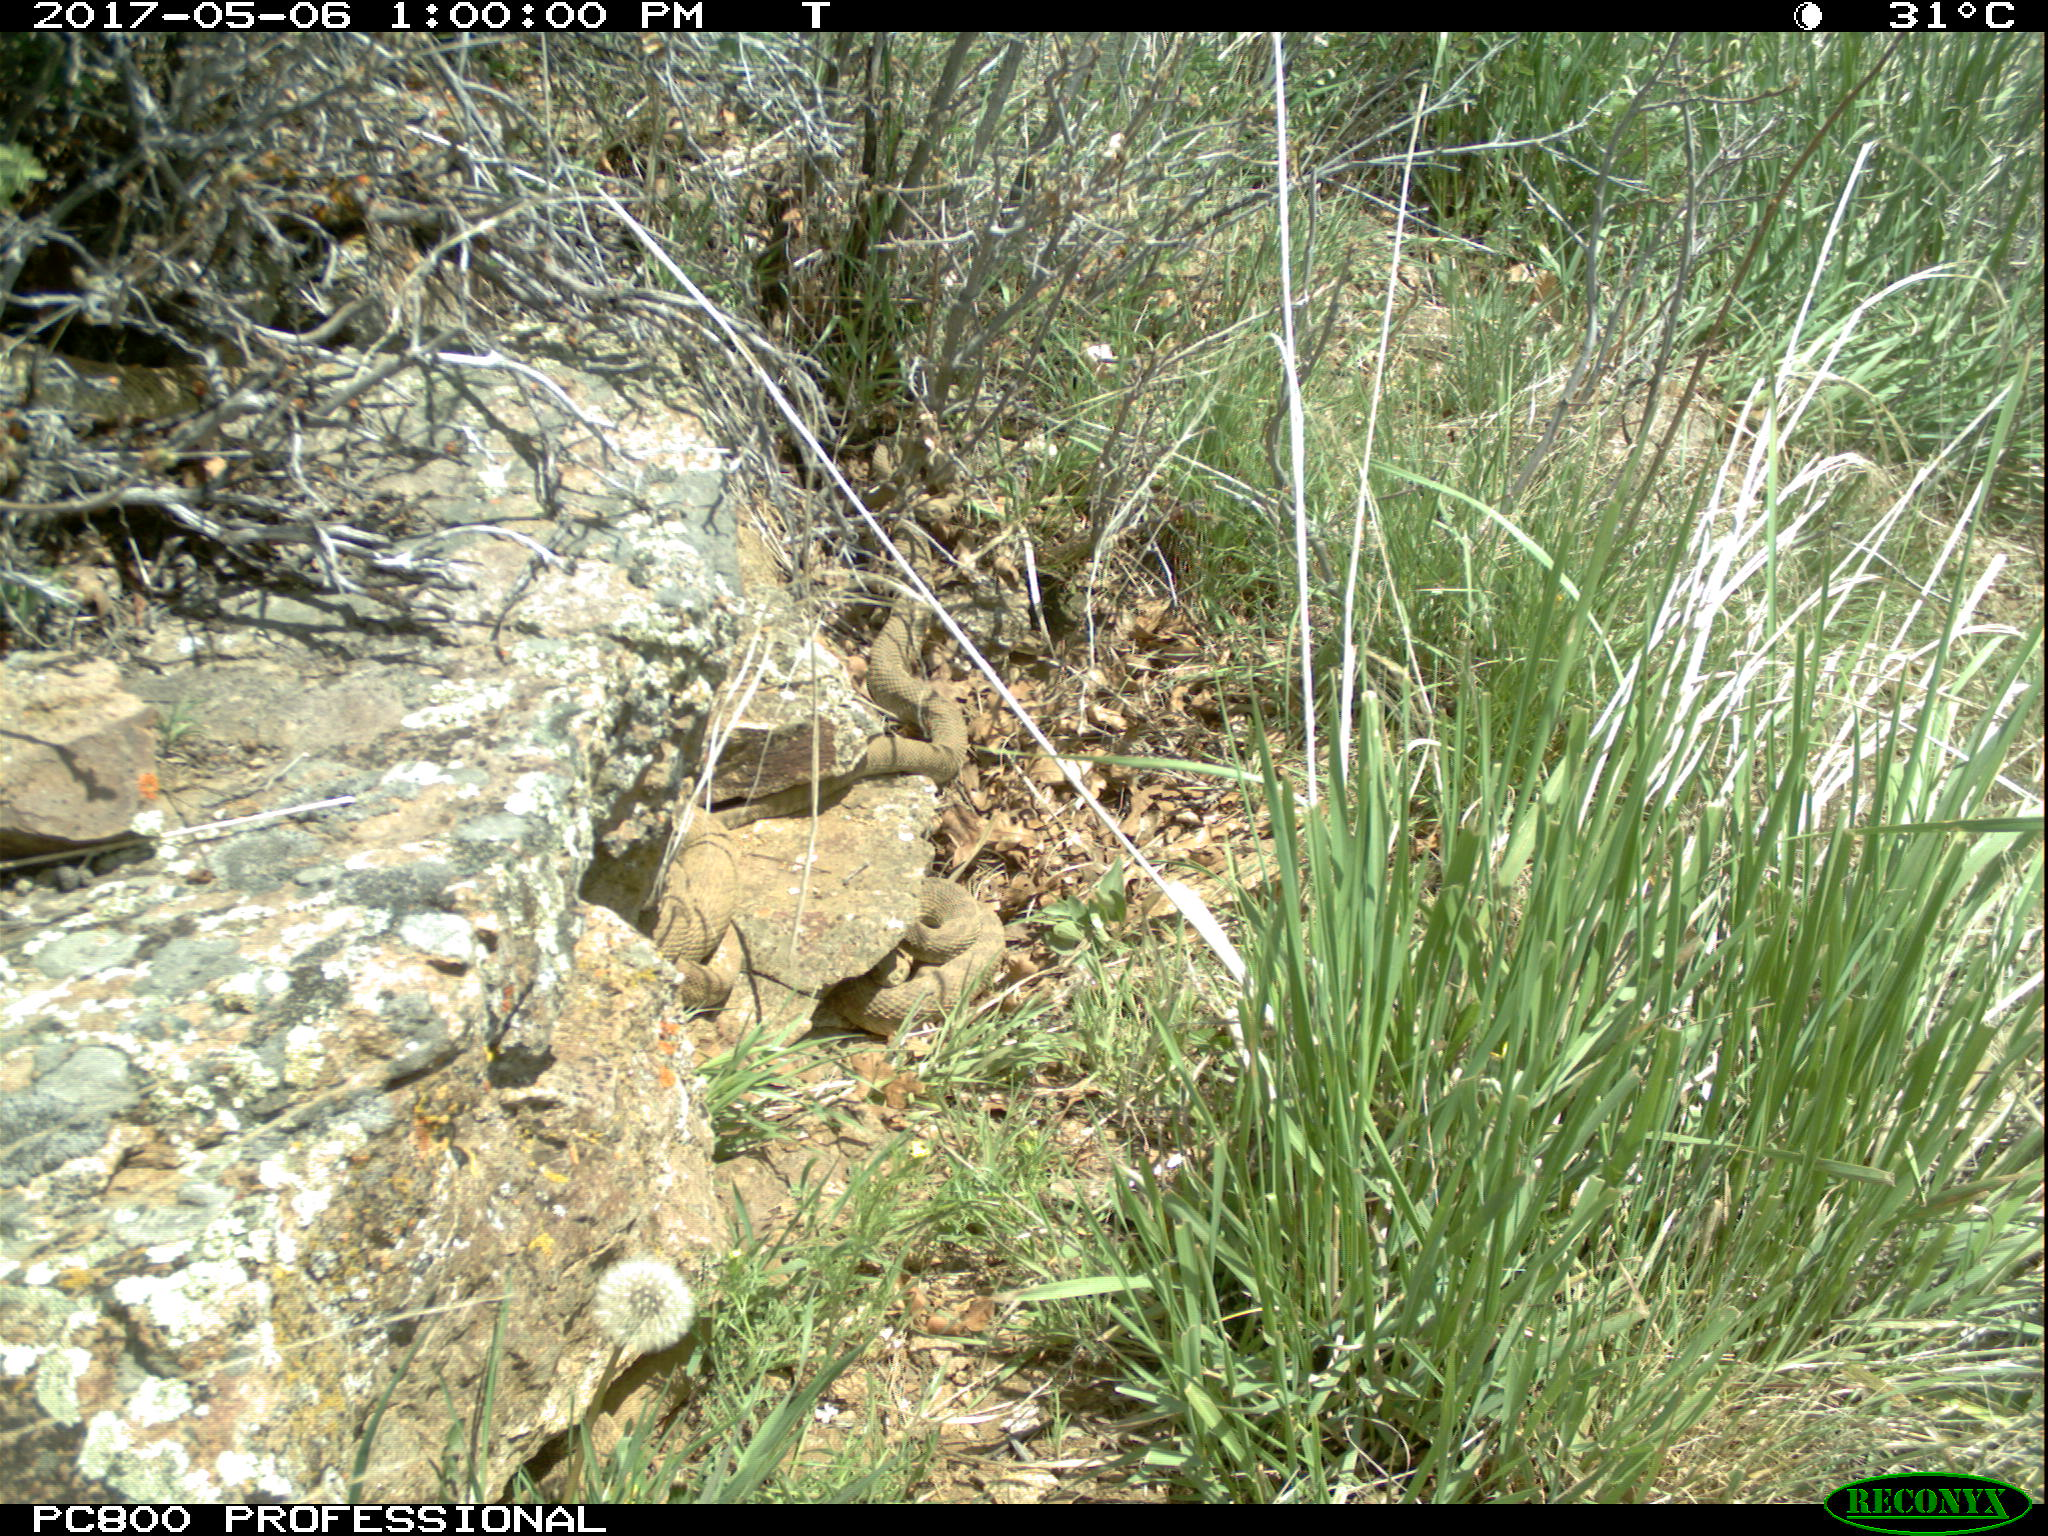snake: (864, 495, 984, 795), (610, 799, 760, 1018), (848, 878, 1018, 1021)
